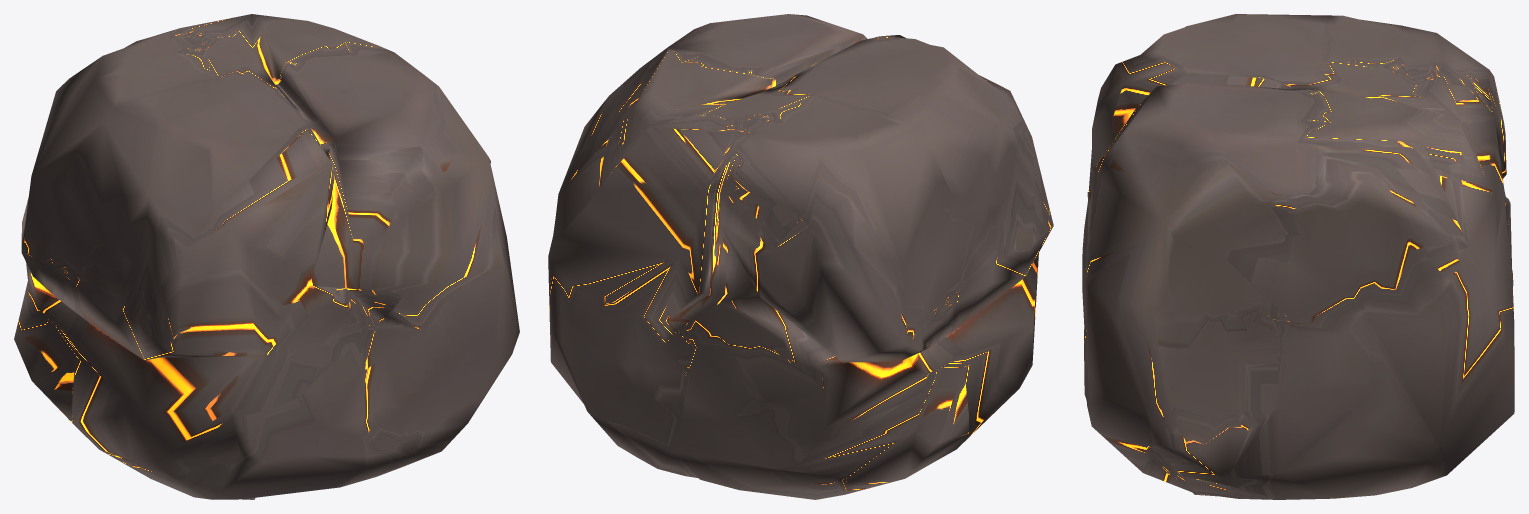
File: fg_rock-Cqc1LY2T.glb
The picture shows the model from 3 angles, left to right: view 1: azimuth 30°, elevation 25°; view 2: azimuth 150°, elevation 25°; view 3: azimuth 270°, elevation 25°; orthographic projection.
Parts seen in each view (by area): view 1: tripo_node_28771b23-aacd-454d-b5fe-92343bcfb999; view 2: tripo_node_28771b23-aacd-454d-b5fe-92343bcfb999; view 3: tripo_node_28771b23-aacd-454d-b5fe-92343bcfb999.
Boxes of the visible parts, <box> form: tripo_node_28771b23-aacd-454d-b5fe-92343bcfb999: <box>14,14,519,499</box>; tripo_node_28771b23-aacd-454d-b5fe-92343bcfb999: <box>548,14,1053,499</box>; tripo_node_28771b23-aacd-454d-b5fe-92343bcfb999: <box>1082,14,1514,499</box>.
Bounding box in the file's own units: 1.6 × 1.45 × 1.58.
Materials: 1 (1 with a texture image).
